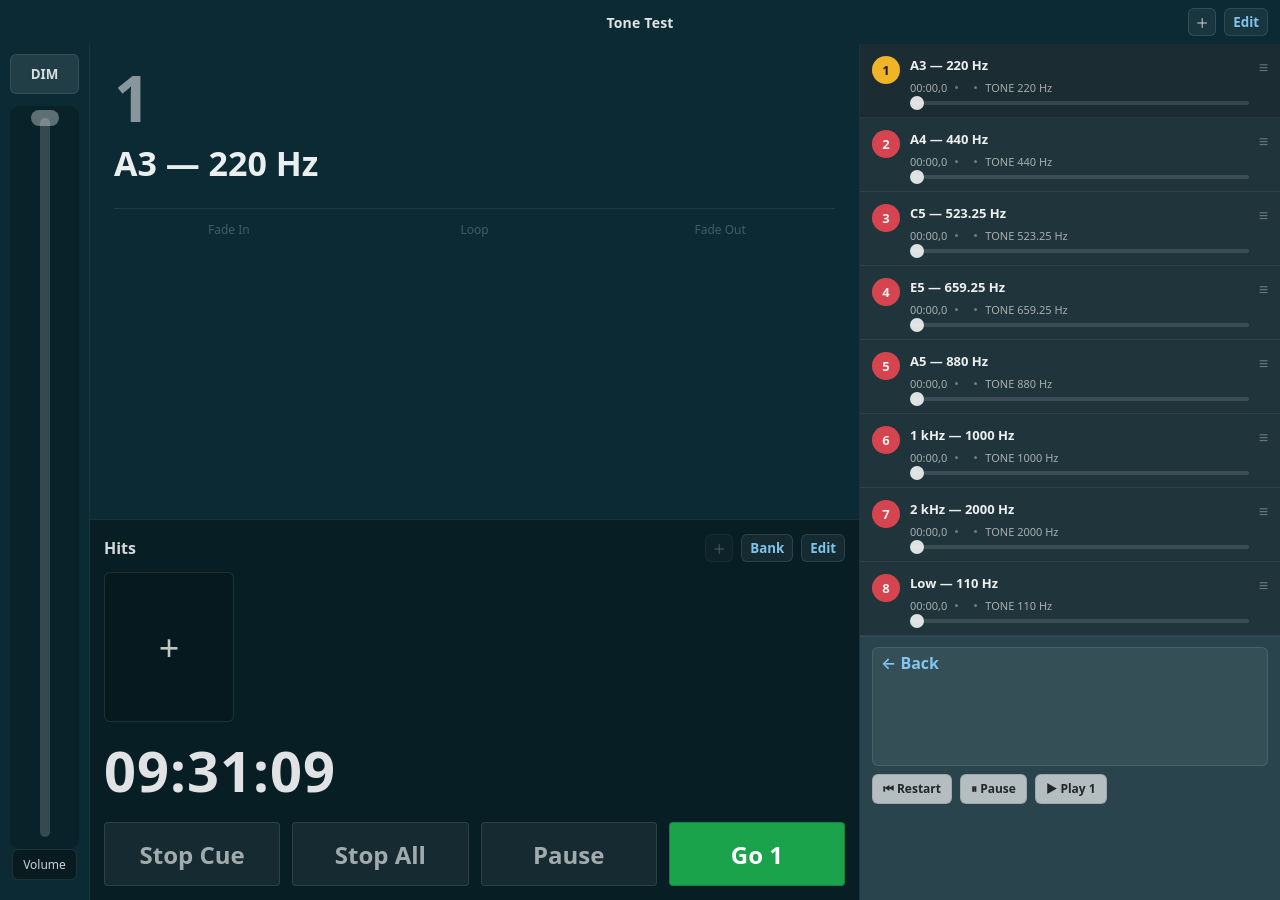
it: ShowRunScreen (operator feedback + GO) › pressing GO plays selected cue and advances selection
The width and height of the screenshot is (1280, 900).
// Operator presses GO.
Step 1. Click the button "Go 1" → [757, 854], box [669, 822, 845, 886]
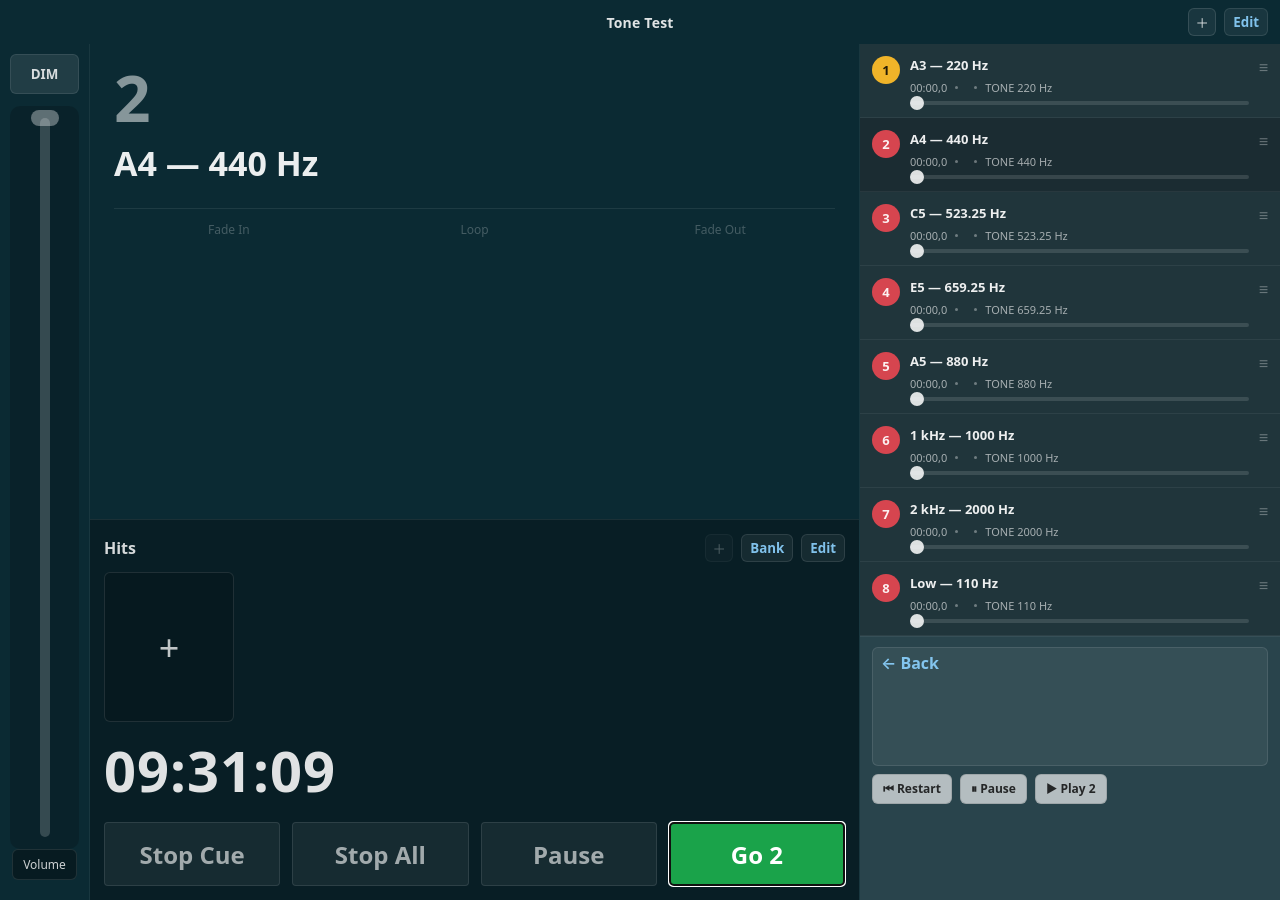
Expected: the element with class "gb-cueList" is shown, [860, 44, 1279, 636]
Now the button "Go 2" is shown, box [669, 822, 845, 886]
